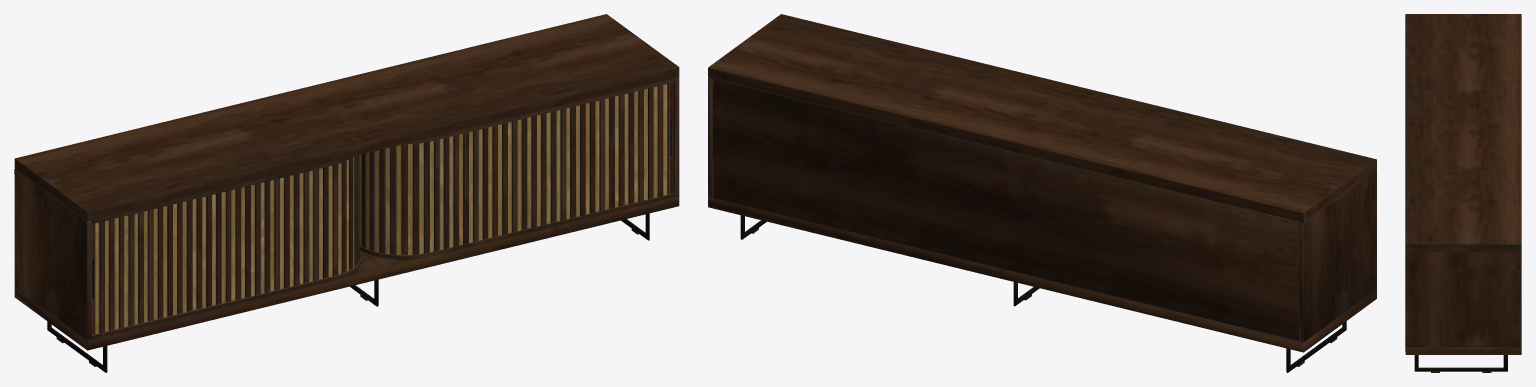
Rendered from tv-console-slatted.f553625caa.glb.
3 views of the same model, side by side, from view 1: azimuth 30°, elevation 25°; view 2: azimuth 150°, elevation 25°; view 3: azimuth 270°, elevation 25° (orthographic). The views are drawn at different scales.
Parts seen in each view (by area): view 1: modern_wooden_cabinet_body, modern_wooden_cabinet_door_l; view 2: modern_wooden_cabinet_body; view 3: modern_wooden_cabinet_body.
Part boxes in pixels (bbox=[...]): modern_wooden_cabinet_body: bbox=[14, 14, 679, 372]; modern_wooden_cabinet_door_l: bbox=[91, 82, 673, 334]; modern_wooden_cabinet_body: bbox=[708, 14, 1376, 372]; modern_wooden_cabinet_body: bbox=[1405, 14, 1521, 372].
Size of the model in its own units: 2.44 by 0.6801 by 0.5201.
Materials: 1 (1 with a texture image).
